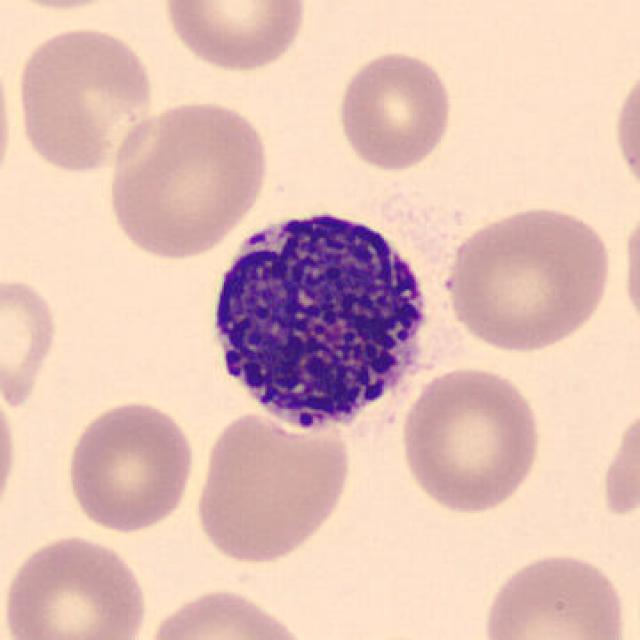Basophil: (195, 194, 442, 442)
RBC: (103, 95, 272, 263), (437, 201, 615, 354), (190, 405, 356, 566), (396, 362, 546, 516), (11, 21, 158, 178), (62, 397, 199, 536), (0, 530, 151, 640), (332, 46, 457, 174), (476, 546, 632, 640), (158, 0, 311, 74), (138, 583, 311, 640), (0, 270, 62, 414), (608, 58, 640, 205), (603, 412, 640, 527), (617, 201, 640, 342), (0, 375, 21, 527), (0, 37, 16, 203), (0, 0, 135, 14)
